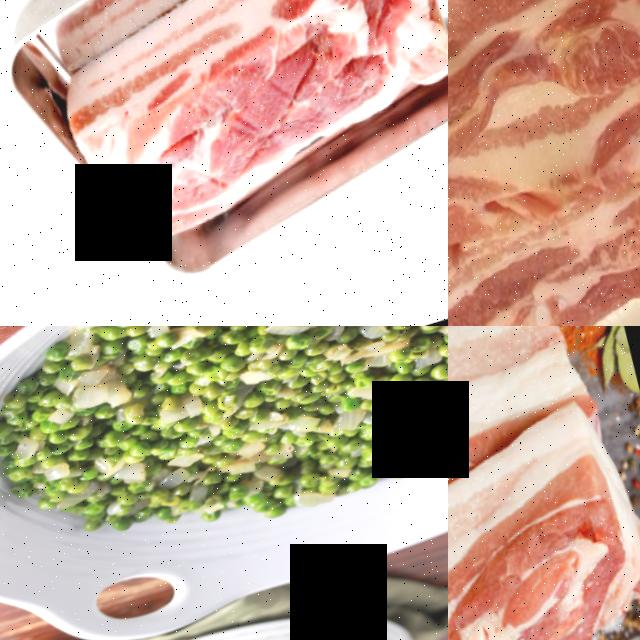peas: (147, 326, 275, 396), (115, 415, 208, 474), (0, 365, 74, 436)
pork belly: (30, 0, 448, 260), (448, 0, 640, 226), (448, 326, 611, 589), (448, 453, 640, 640), (448, 157, 640, 326)
